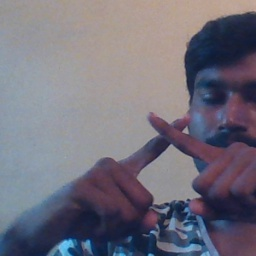X: (113, 104, 235, 212)
